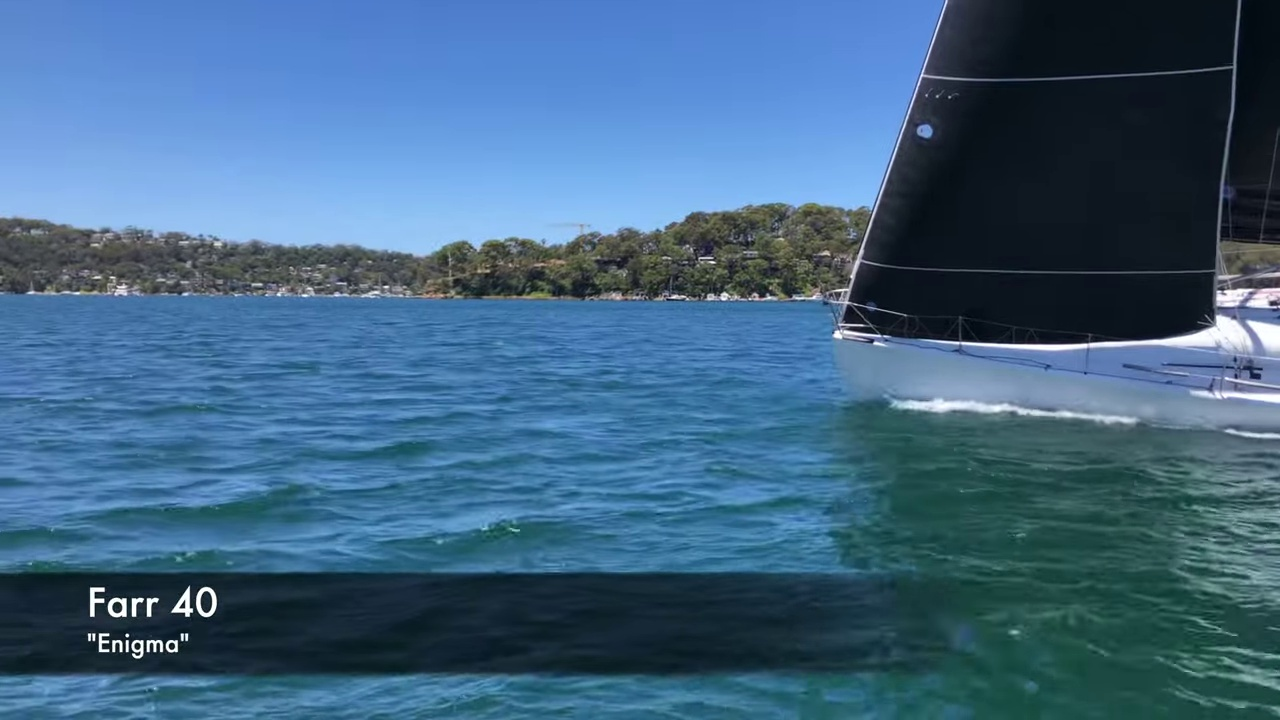pennon: (924, 86, 935, 99), (935, 89, 946, 99), (948, 92, 960, 101)
